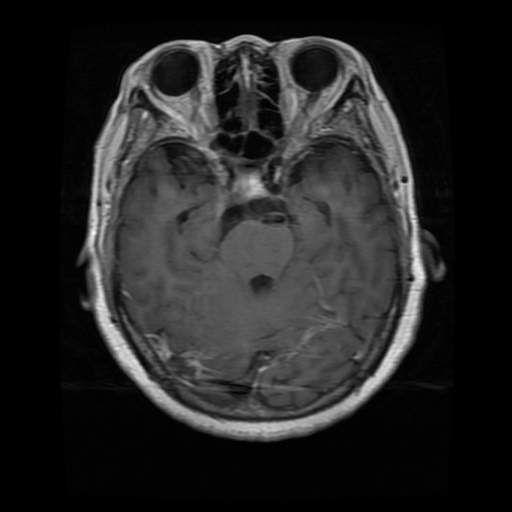pituitary: (232, 163, 270, 202)
